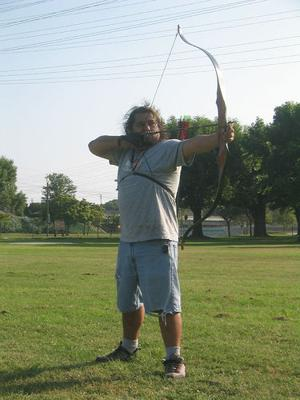person: (86, 104, 236, 380)
